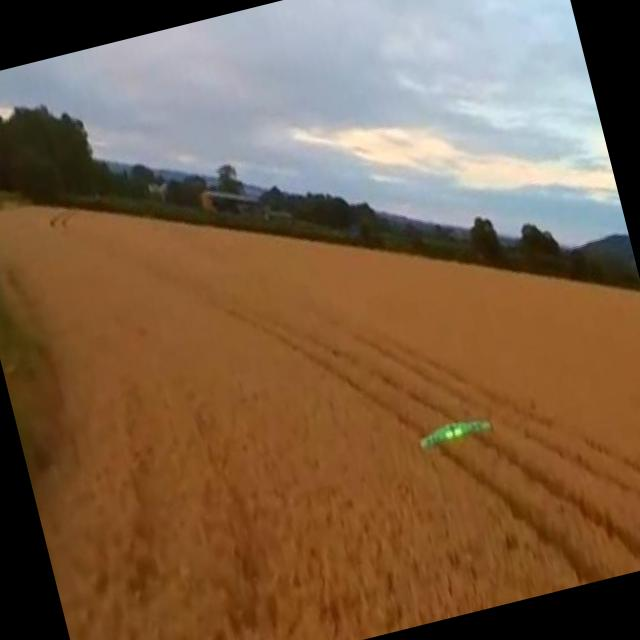UAV: (339, 348, 540, 496)
